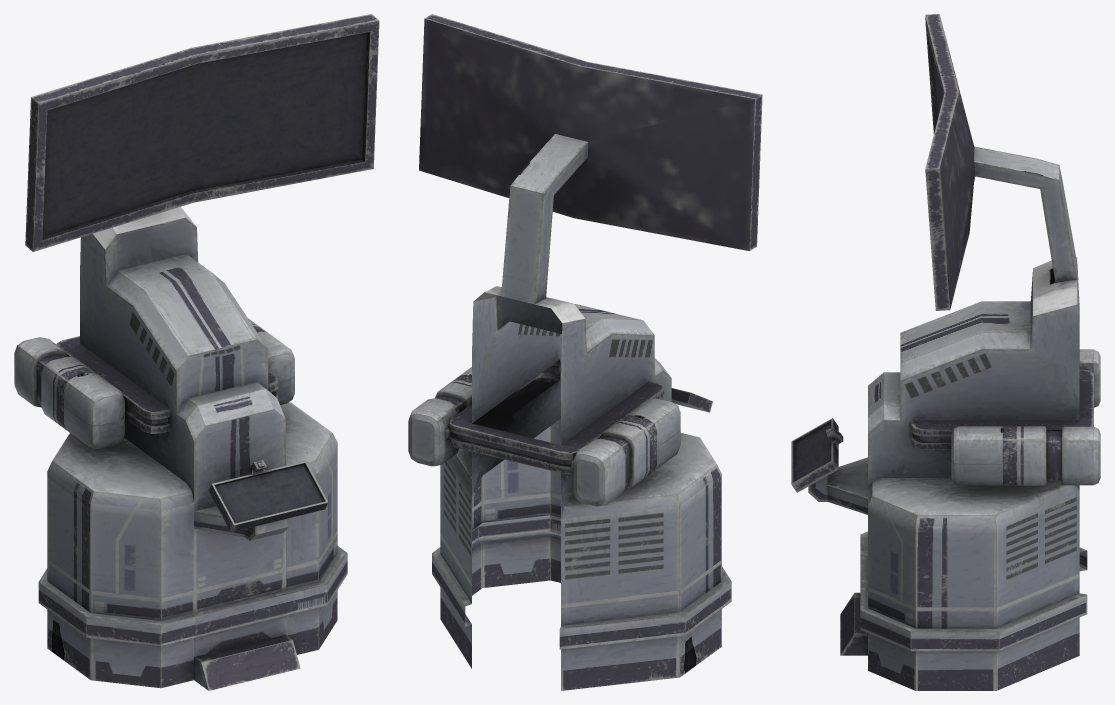
The model's file is Intro_Computer.fbx.
The picture shows the model from 3 angles, left to right: view 1: azimuth 30°, elevation 25°; view 2: azimuth 150°, elevation 25°; view 3: azimuth 270°, elevation 25°; orthographic projection. The views are drawn at different scales.
Parts seen in each view (by area): view 1: computer, HandBase, Cover; view 2: computer, HandBase, Cover; view 3: computer, HandBase, Cover.
Part boxes in pixels (left/top/right/bottom): computer: left=25, top=14, right=379, bottom=690; HandBase: left=14, top=318, right=294, bottom=448; Cover: left=64, top=331, right=294, bottom=425; computer: left=419, top=14, right=762, bottom=690; HandBase: left=408, top=374, right=680, bottom=506; Cover: left=460, top=367, right=680, bottom=447; computer: left=791, top=14, right=1093, bottom=690; HandBase: left=951, top=349, right=1100, bottom=485; Cover: left=951, top=426, right=1002, bottom=464.
Bounding box in the file's own units: 138 × 226 × 117.
